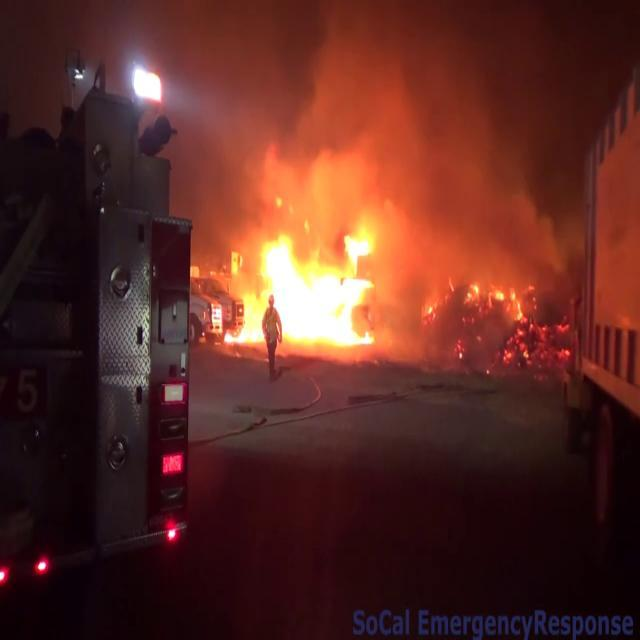Fire: (214, 204, 388, 356)
Smoke: (175, 1, 575, 246)
